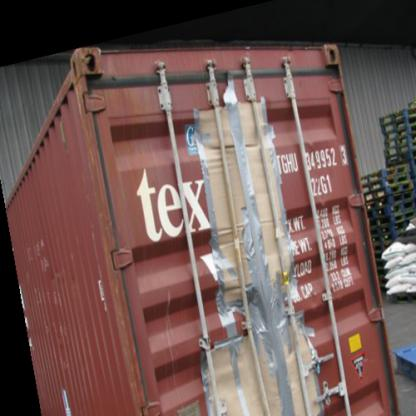Damage: (184, 104, 332, 415)
